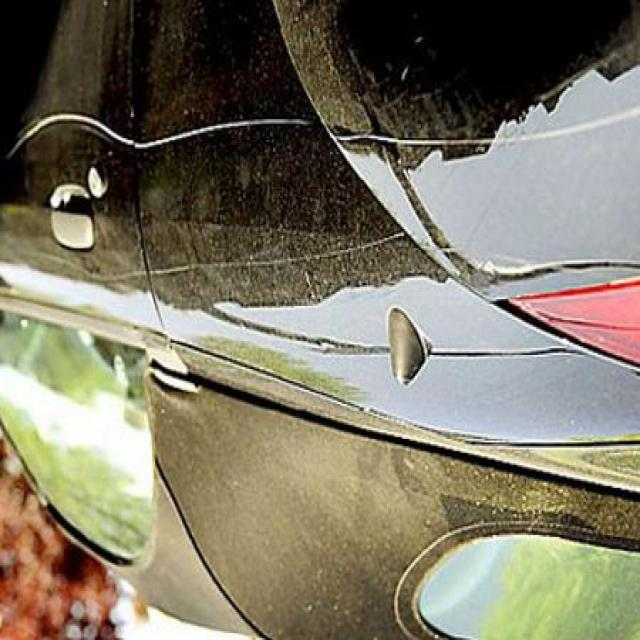scratch: (0, 108, 320, 170), (156, 226, 402, 286), (339, 116, 624, 156)
